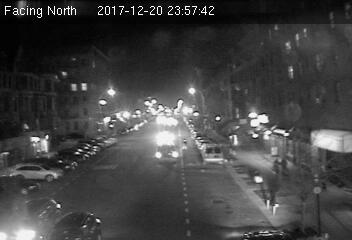car: (154, 142, 181, 165)
truck: (201, 143, 224, 164)
